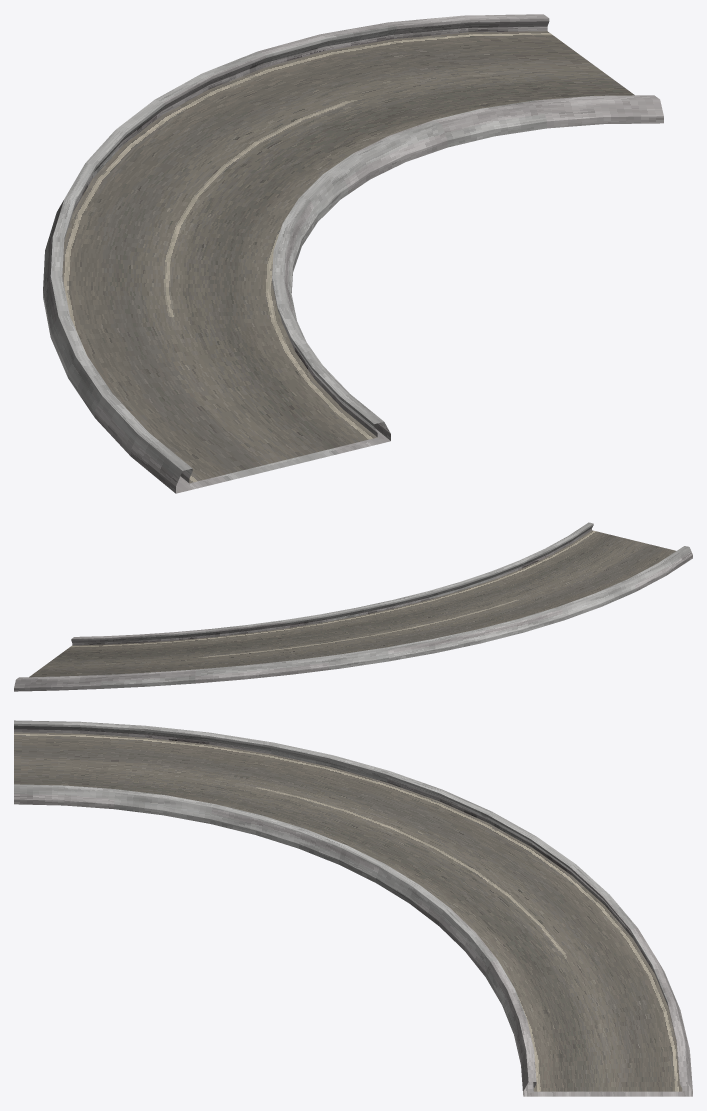
File: turn-right4x4.glb
The picture shows the model from 3 angles, top to bottom: view 1: azimuth 30°, elevation 25°; view 2: azimuth 150°, elevation 25°; view 3: azimuth 270°, elevation 25°; orthographic projection. The views are drawn at different scales.
Parts seen in each view (by area): view 1: road-Turn-Flat-BiSlopeDown-Down2-Right-Size4; view 2: road-Turn-Flat-BiSlopeDown-Down2-Right-Size4; view 3: road-Turn-Flat-BiSlopeDown-Down2-Right-Size4.
Part boxes in pixels (x1,y1,x2,y2): road-Turn-Flat-BiSlopeDown-Down2-Right-Size4: (43,14,663,493); road-Turn-Flat-BiSlopeDown-Down2-Right-Size4: (14,522,692,691); road-Turn-Flat-BiSlopeDown-Down2-Right-Size4: (14,720,692,1096).
Size of the model in its own units: 4 by 0.5947 by 4.
Materials: 2 (2 with a texture image).
